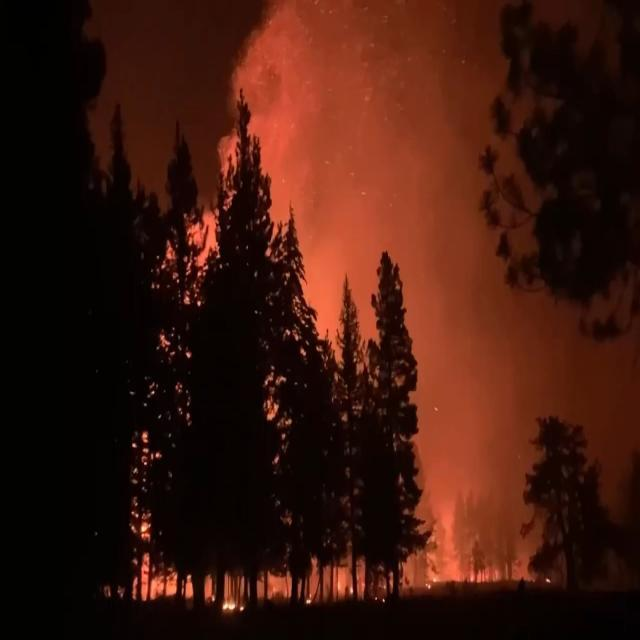Fire: (420, 491, 502, 584)
